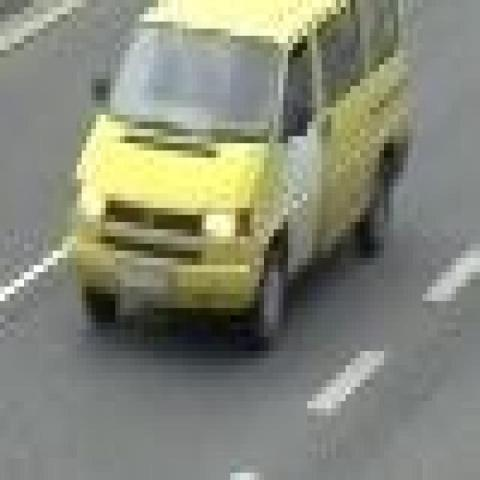van: (72, 0, 404, 351)
